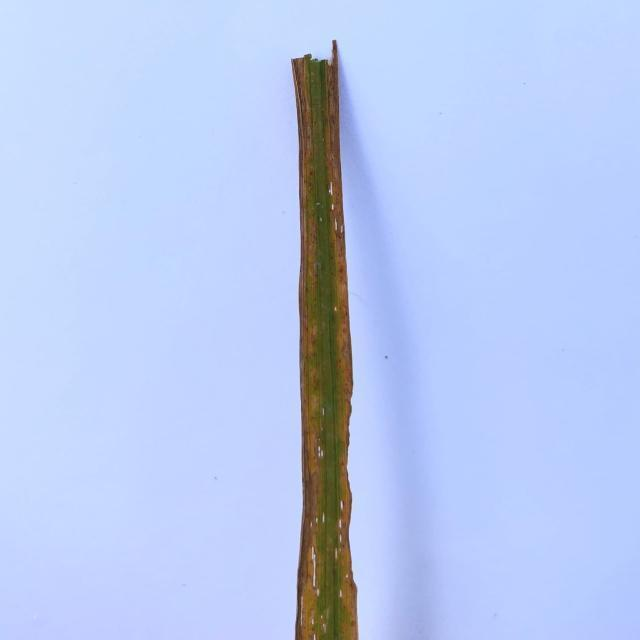Rice Tungro: (290, 54, 328, 465), (322, 51, 354, 409)
